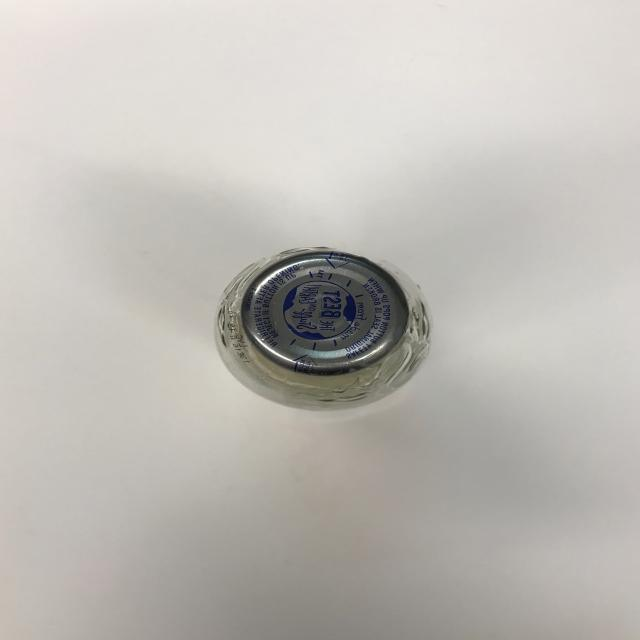metal: (214, 245, 434, 411)
